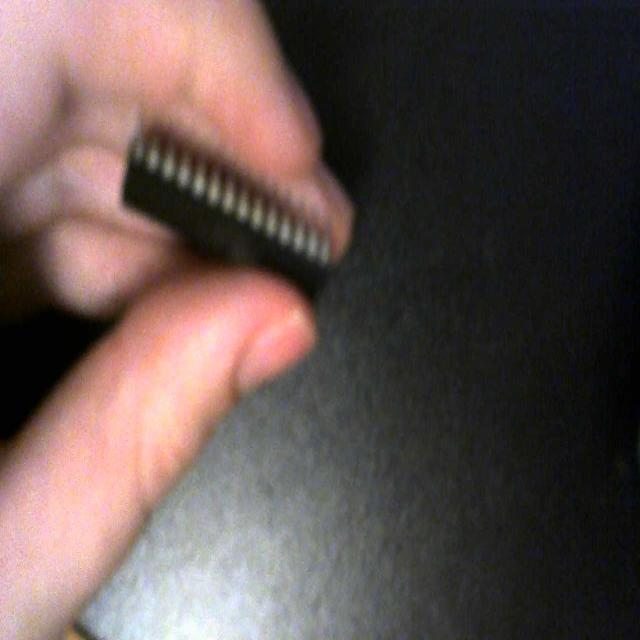atmega: (117, 118, 336, 294)
